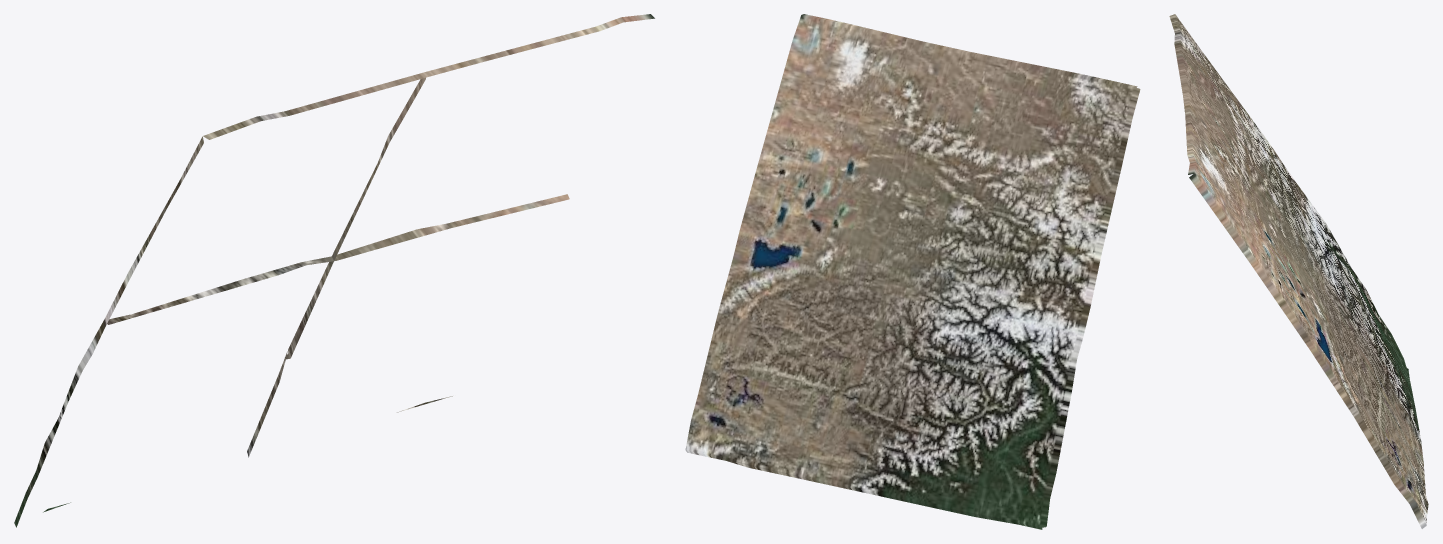
The picture shows the model from 3 angles, left to right: view 1: azimuth 30°, elevation 25°; view 2: azimuth 150°, elevation 25°; view 3: azimuth 270°, elevation 25°; orthographic projection. The views are drawn at different scales.
Size of the model in its own units: 561009 by 548021 by 357992.
Materials: 1 (1 with a texture image).
